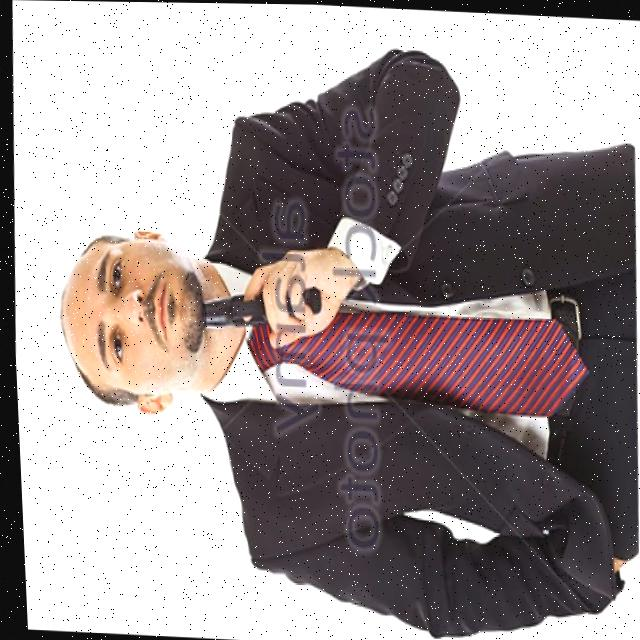pistol: (197, 289, 264, 329)
